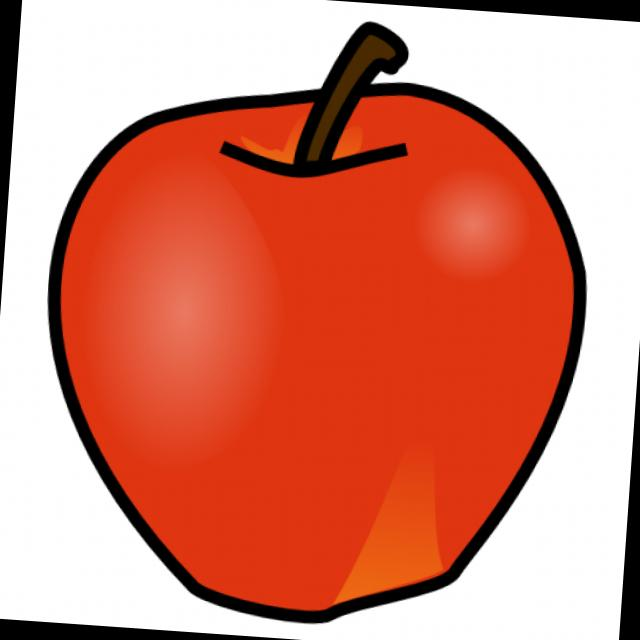apple: (17, 14, 604, 639)
